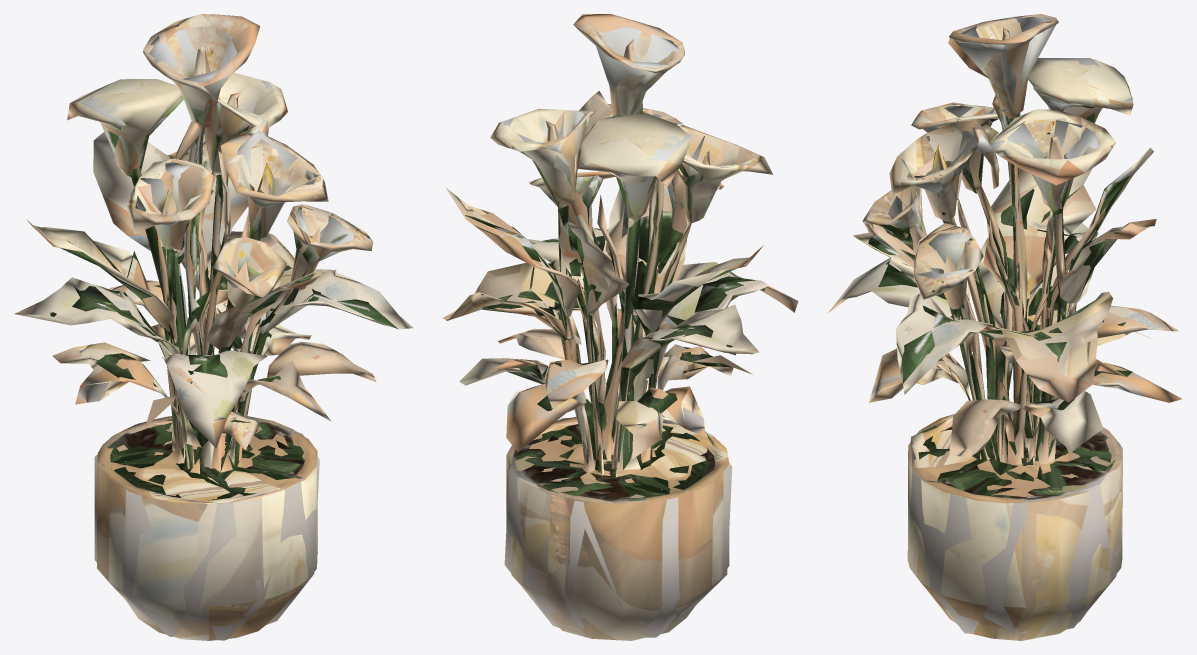
Rendered from bitki.fbx.
3 views of the same model, side by side, from view 1: azimuth 30°, elevation 25°; view 2: azimuth 150°, elevation 25°; view 3: azimuth 270°, elevation 25° (orthographic).
Parts seen in each view (by area): view 1: Mesh_0, Mesh_0.001; view 2: Mesh_0, Mesh_0.001; view 3: Mesh_0, Mesh_0.001.
Part boxes in pixels (<box>): Mesh_0: <box>14,14,413,640</box>; Mesh_0.001: <box>50,22,397,640</box>; Mesh_0: <box>442,14,798,640</box>; Mesh_0.001: <box>465,16,765,637</box>; Mesh_0: <box>827,14,1181,640</box>; Mesh_0.001: <box>868,16,1133,634</box>.
Size of the model in its own units: 109 by 191 by 104.
